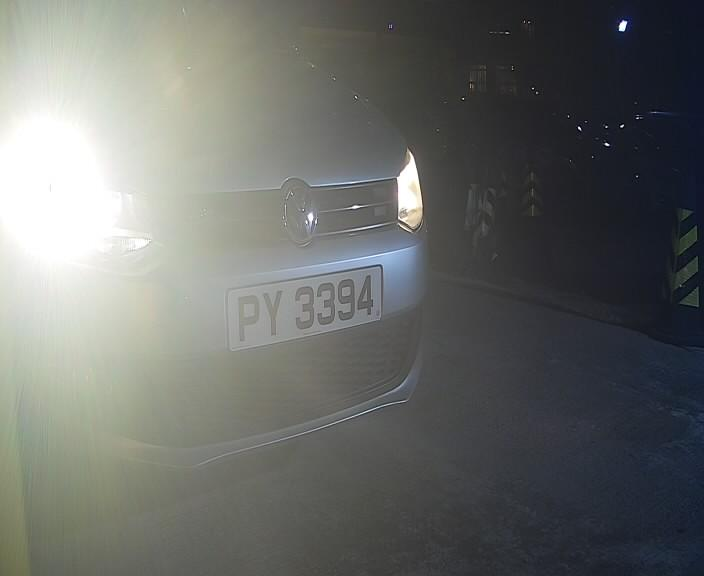Car: (7, 11, 535, 456)
License Plate: (246, 255, 381, 353)
